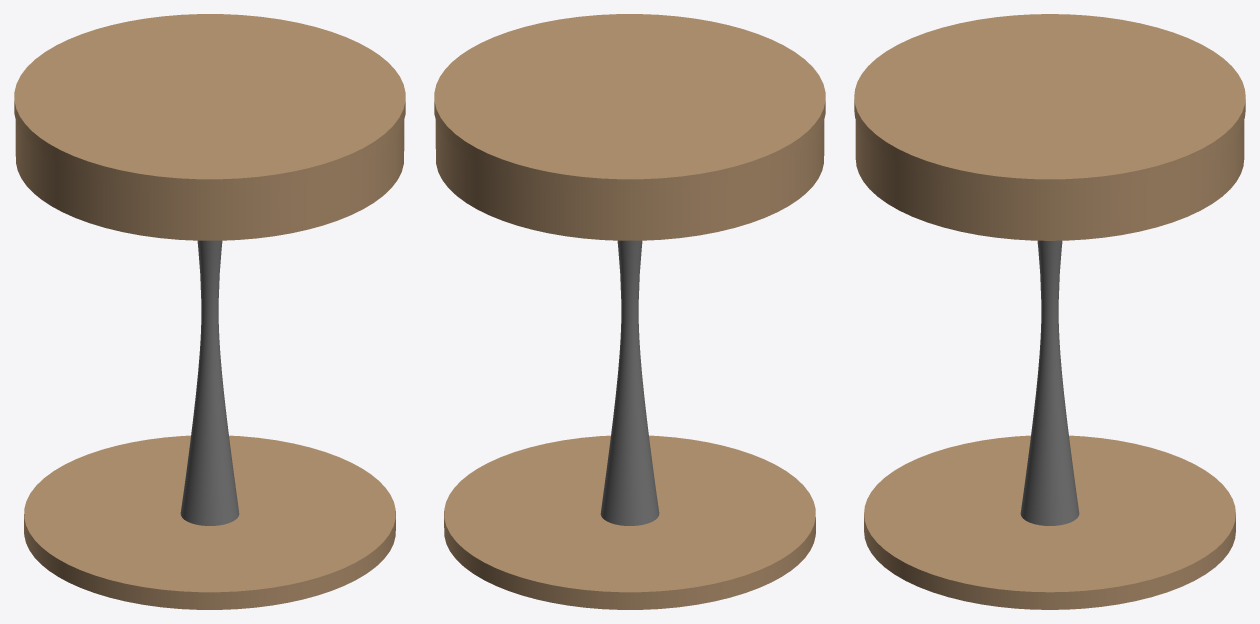
Rendered from 489_サイドテーブル.glb.
3 renders of one model, left to right at view 1: azimuth 30°, elevation 25°; view 2: azimuth 150°, elevation 25°; view 3: azimuth 270°, elevation 25°, orthographic.
Visible parts, largest first — view 1: body, huta; view 2: body, huta; view 3: body, huta.
Part boxes in pixels (box(x1,y1,x2,y2)): body: box(15, 120, 404, 609); huta: box(14, 14, 405, 192); body: box(435, 120, 824, 609); huta: box(434, 14, 825, 192); body: box(855, 120, 1244, 609); huta: box(854, 14, 1245, 192).
Bounding box in the file's own units: 0.4 × 0.49 × 0.4.
